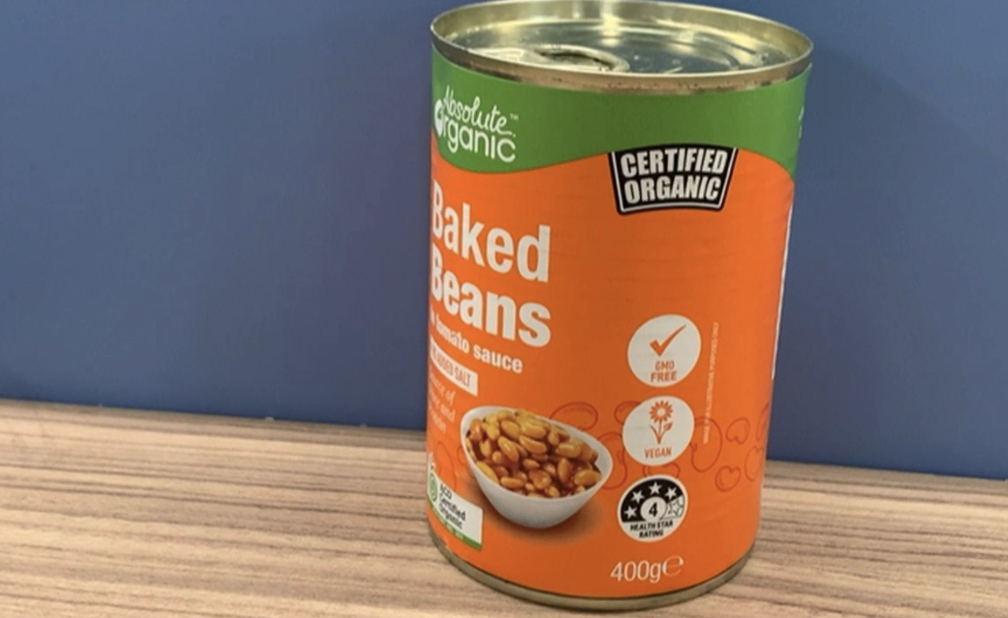Baked beans_400-499g: (440, 96, 741, 579)
